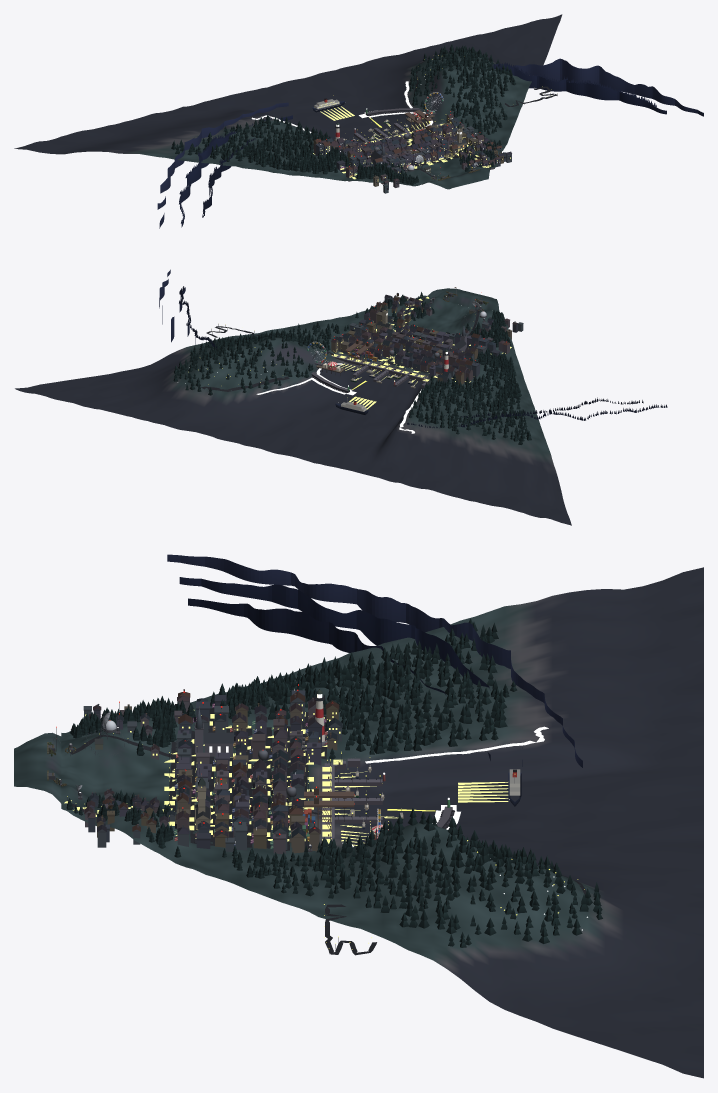
The model's file is night_coast.glb.
The picture shows the model from 3 angles, top to bottom: view 1: azimuth 30°, elevation 25°; view 2: azimuth 150°, elevation 25°; view 3: azimuth 270°, elevation 25°; orthographic projection. The views are drawn at different scales.
Visible parts, largest first — view 1: land, wood_far, far_ridges, city_blocks, wood_near, harbour_quays, fg_crest, city_windows, ferry_0, city_roads; view 2: land, wood_far, city_blocks, wood_near, harbour_quays, far_ridges, fg_crest, city_roads, harbour_foam, ferry_0; view 3: land, wood_far, city_blocks, far_ridges, wood_near, city_roads, harbour_quays, fg_crest, city_pools, ferry_0, harbour_foam, city_signs.
Boxes of the visible parts, x1,y1,x2,y2 form: land: (14,14,562,186); wood_far: (171,44,515,171); far_ridges: (157,55,703,228); city_blocks: (313,113,511,193); wood_near: (299,119,502,185); harbour_quays: (354,101,442,143); fg_crest: (422,167,490,189); city_windows: (320,118,510,189); ferry_0: (312,95,354,120); city_roads: (310,60,557,178); land: (15,295,571,525); wood_far: (173,323,531,444); city_blocks: (331,293,523,384); wood_near: (312,292,516,376); harbour_quays: (311,340,428,393); far_ridges: (159,269,667,427); fg_crest: (428,288,499,311); city_roads: (201,297,479,391); harbour_foam: (256,363,421,433); ferry_0: (335,396,376,414); land: (61,567,703,1078); wood_far: (265,618,602,947); city_blocks: (83,689,342,854); far_ridges: (167,554,587,930); wood_near: (66,676,268,878); city_roads: (67,708,586,955); harbour_quays: (302,758,454,844); fg_crest: (14,732,61,803); city_pools: (64,710,327,848); ferry_0: (458,769,521,806); harbour_foam: (342,726,548,846); city_signs: (104,689,327,848).
Size of the model in its own units: 385 by 34.23 by 219.
